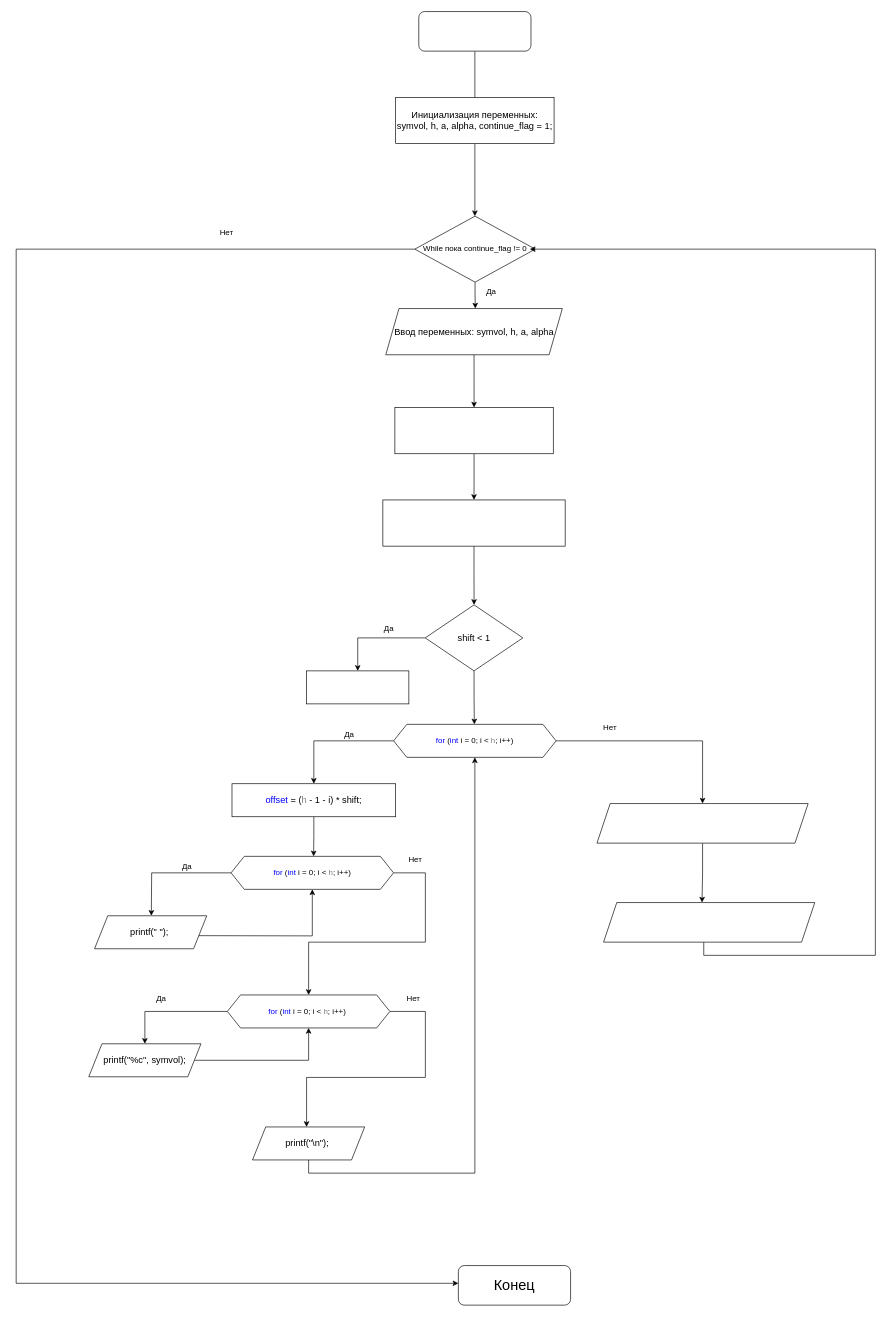
Image size: 892x1317. Some labels were removed from this diagram. The shapes that lost their labels are listed below. From the top down, each one's centre as x and y in pixels, then its label:
(x=474, y=31): Начало
(x=473, y=430): alpha_rad = alpha * M_PI / 180.0;
(x=473, y=522): shift = (int)round(1.0 / tan(alpha_rad) * 0.5);
(x=357, y=687): shift = 1;
(x=702, y=823): Вывести "Продолжить? (Да - введите любое число, Нет - введите 0)"
(x=709, y=922): Ввести значение continue_flag;
